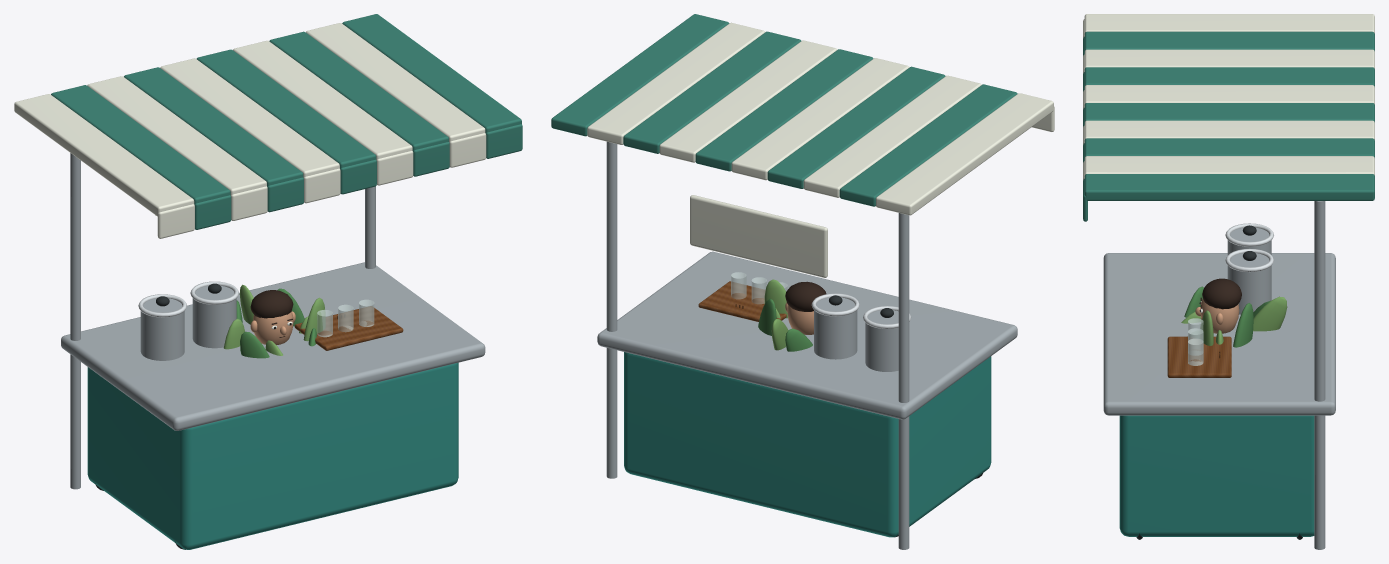
File: shop-kit.glb
3 renders of one model, left to right at view 1: azimuth 30°, elevation 25°; view 2: azimuth 150°, elevation 25°; view 3: azimuth 270°, elevation 25°, orthographic.
Parts seen in each view (by area): view 1: Enamel cart, Awning support, Canvas canopy stripe, Canvas canopy stripe.001, Preparation board, Pointed foliage, Clean glass, Pointed foliage.001, Ear, Eyebrow, Canister lid; view 2: Enamel cart, Awning support, Canvas canopy stripe, Canvas canopy stripe.001, Preparation board, Pointed foliage, Pointed foliage.001, Eyebrow, Canister lid, Clean glass; view 3: Awning support, Canvas canopy stripe.001, Canvas canopy stripe, Enamel cart, Preparation board, Pointed foliage, Eyebrow, Pointed foliage.001, Canister lid, Ear, Clean glass.
Part boxes in pixels (x1,y1,x2,y2): Enamel cart: [87, 362, 458, 549]; Awning support: [61, 153, 485, 489]; Canvas canopy stripe: [14, 23, 486, 238]; Canvas canopy stripe.001: [51, 14, 522, 229]; Preparation board: [294, 306, 403, 350]; Pointed foliage: [223, 284, 325, 355]; Clean glass: [317, 299, 374, 337]; Pointed foliage.001: [236, 288, 316, 358]; Ear: [250, 311, 295, 344]; Eyebrow: [250, 290, 293, 337]; Canister lid: [138, 281, 238, 317]; Enamel cart: [624, 352, 991, 537]; Awning support: [597, 141, 1017, 549]; Canvas canopy stripe: [587, 22, 1054, 277]; Canvas canopy stripe.001: [551, 14, 1017, 206]; Preparation board: [698, 281, 786, 321]; Pointed foliage: [764, 279, 788, 350]; Pointed foliage.001: [758, 298, 812, 351]; Eyebrow: [785, 281, 826, 311]; Canister lid: [811, 293, 911, 328]; Clean glass: [731, 272, 787, 304]; Awning support: [1103, 201, 1335, 549]; Canvas canopy stripe.001: [1083, 31, 1374, 221]; Canvas canopy stripe: [1083, 14, 1374, 180]; Enamel cart: [1119, 415, 1314, 536]; Preparation board: [1167, 336, 1231, 377]; Pointed foliage: [1181, 296, 1287, 345]; Eyebrow: [1200, 278, 1241, 319]; Pointed foliage.001: [1184, 286, 1270, 347]; Canister lid: [1225, 223, 1273, 272]; Ear: [1195, 299, 1239, 333]; Clean glass: [1188, 318, 1203, 365].
Bounding box in the file's own units: 2.1 × 2.15 × 1.46.
20 materials, 1 textured.
